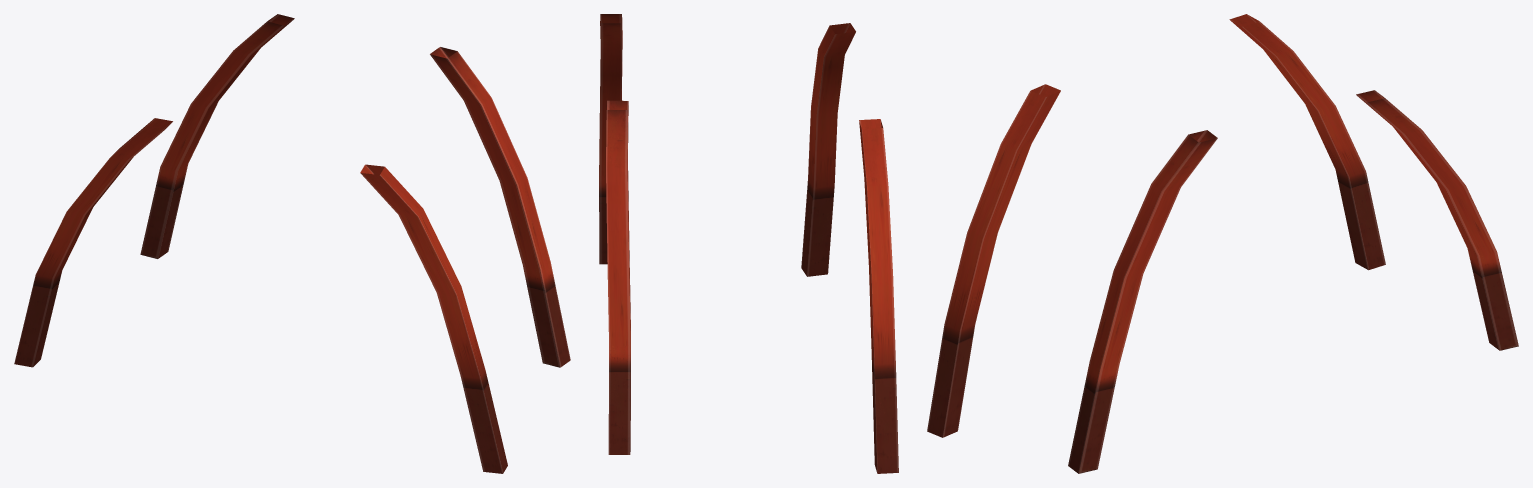
Rendered from track_chinese_env_roadbeams_03.FBX.
3 views of the same model, side by side, from view 1: azimuth 30°, elevation 25°; view 2: azimuth 150°, elevation 25°; view 3: azimuth 270°, elevation 25° (orthographic). The views are drawn at different scales.
Visible parts, largest first — view 1: track_chinese_roadbeams_03; view 2: track_chinese_roadbeams_03; view 3: track_chinese_roadbeams_03.
Part boxes in pixels (x1=…): track_chinese_roadbeams_03: x1=14, y1=14, x2=570, y2=473; track_chinese_roadbeams_03: x1=599, y1=14, x2=898, y2=473; track_chinese_roadbeams_03: x1=927, y1=14, x2=1518, y2=473.
Bounding box in the file's own units: 47.4 × 33.48 × 54.17.
